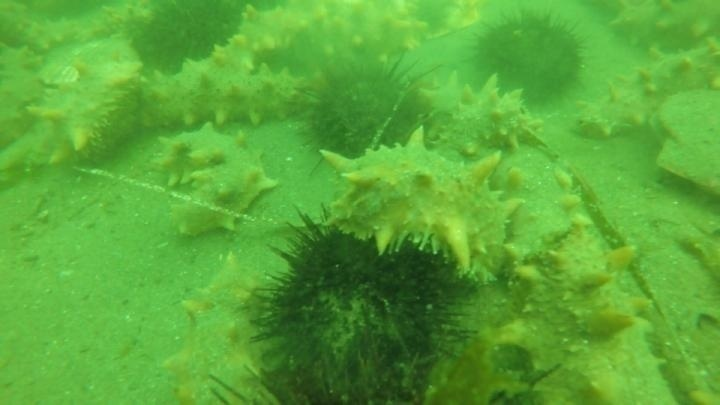echinus: (244, 212, 478, 403), (299, 54, 428, 163), (471, 7, 590, 109), (246, 40, 330, 96)
holothurian: (315, 128, 521, 275), (514, 229, 653, 405), (7, 38, 150, 180), (159, 252, 281, 404), (216, 1, 431, 82), (150, 121, 280, 241), (131, 54, 317, 135), (571, 40, 717, 142), (413, 69, 548, 157), (204, 3, 326, 75), (606, 1, 720, 59), (1, 40, 47, 155), (9, 9, 119, 56)
scallop: (650, 84, 720, 205), (406, 1, 484, 43)
